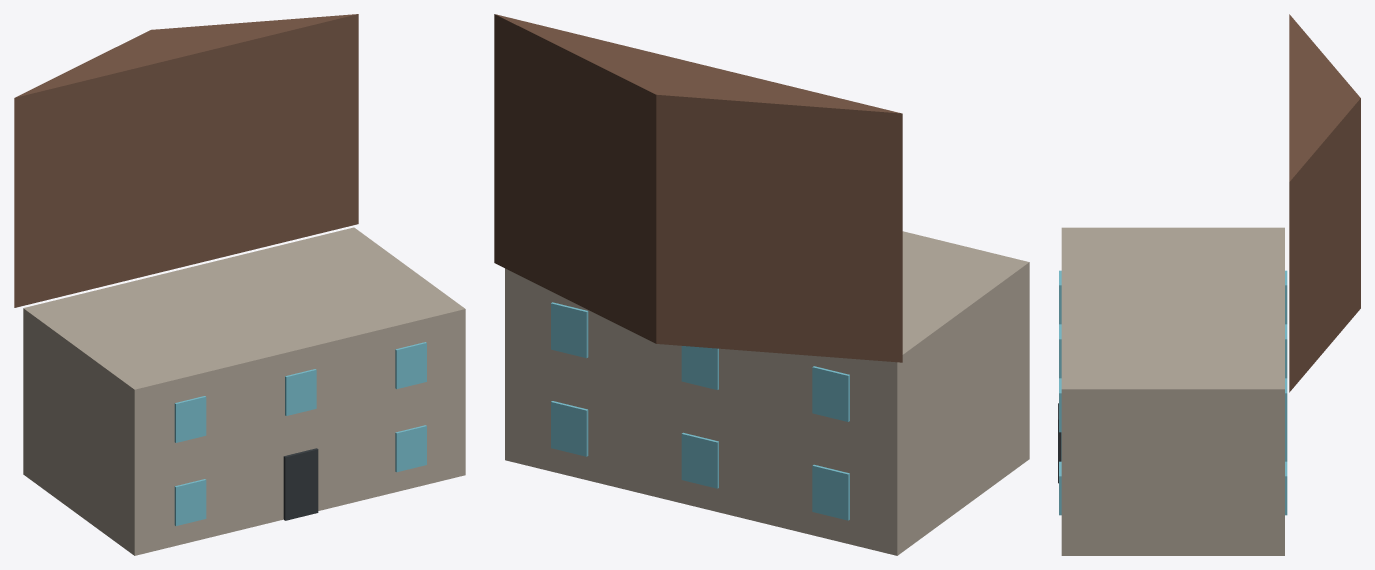
The model's file is house_03.glb.
3 views of the same model, side by side, from view 1: azimuth 30°, elevation 25°; view 2: azimuth 150°, elevation 25°; view 3: azimuth 270°, elevation 25° (orthographic). The views are drawn at different scales.
Parts seen in each view (by area): view 1: body, roof, win (×5), door; view 2: roof, body, win (×6); view 3: body, roof.
Part boxes in pixels (left/top/right/bottom): body: left=23, top=227, right=465, bottom=555; roof: left=14, top=14, right=358, bottom=307; win (×5): left=174, top=342, right=426, bottom=525; door: left=283, top=448, right=318, bottom=520; roof: left=494, top=14, right=902, bottom=362; body: left=505, top=231, right=1029, bottom=555; win (×6): left=551, top=302, right=849, bottom=520; body: left=1061, top=227, right=1284, bottom=555; roof: left=1289, top=14, right=1360, bottom=392.
Bounding box in the file's own units: 12.48 × 13.04 × 9.49.
